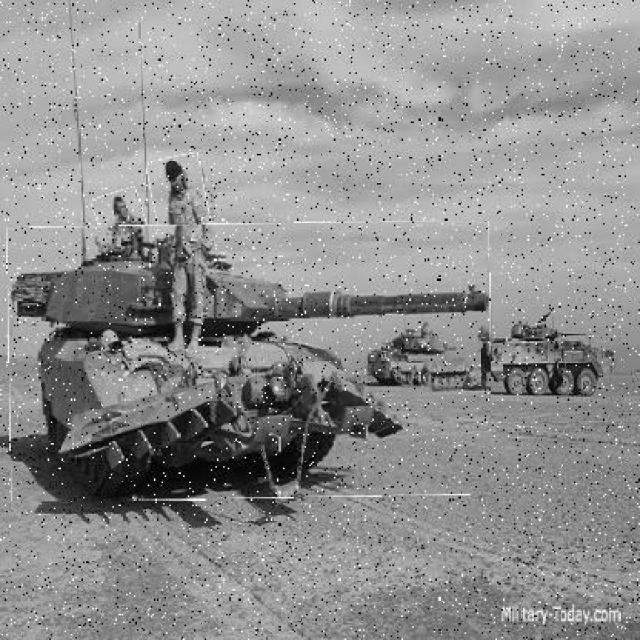Person: (158, 155, 229, 361), (96, 190, 152, 264)
Tank: (9, 223, 493, 501), (363, 324, 474, 398)
